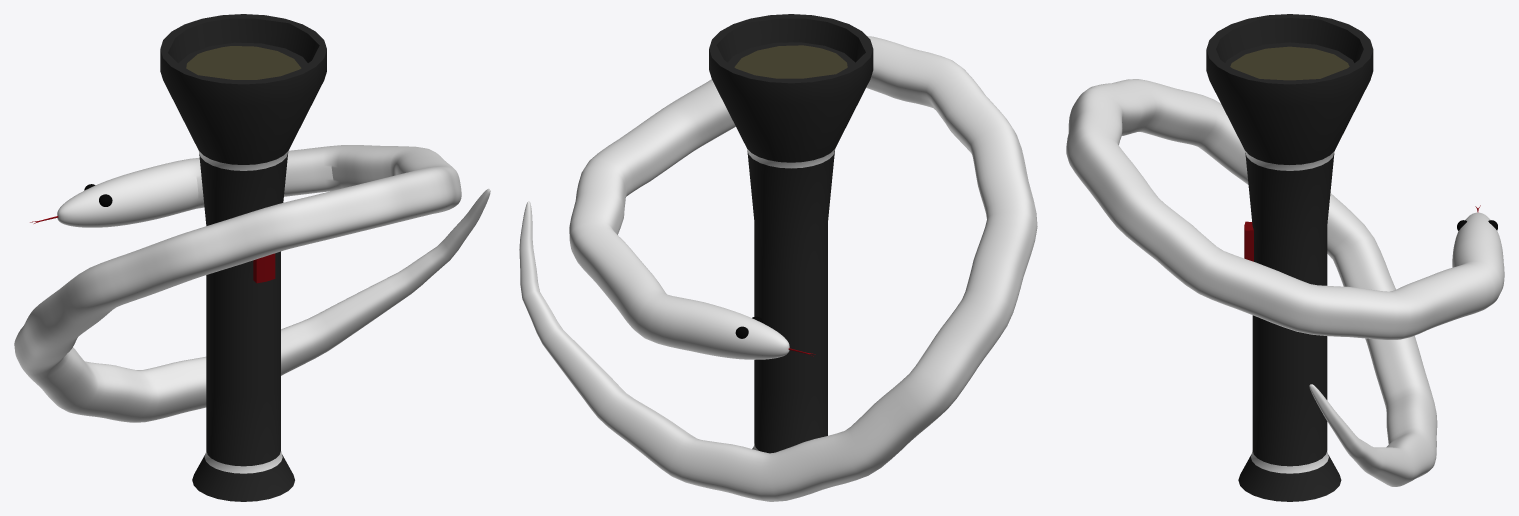
The model's file is SnakeTorch.fbx.
The picture shows the model from 3 angles, left to right: view 1: azimuth 30°, elevation 25°; view 2: azimuth 150°, elevation 25°; view 3: azimuth 270°, elevation 25°; orthographic projection.
Visible parts, largest first — view 1: Snake.026, Torch; view 2: Snake.026, Torch; view 3: Snake.026, Torch.
Part boxes in pixels (x1,y1,x2,y2): Snake.026: [14, 145, 490, 422]; Torch: [160, 14, 326, 501]; Snake.026: [519, 36, 1037, 501]; Torch: [709, 14, 873, 453]; Snake.026: [1066, 79, 1504, 486]; Torch: [1206, 14, 1373, 501].
Size of the model in its own units: 1.21 by 1.06 by 0.9737.
